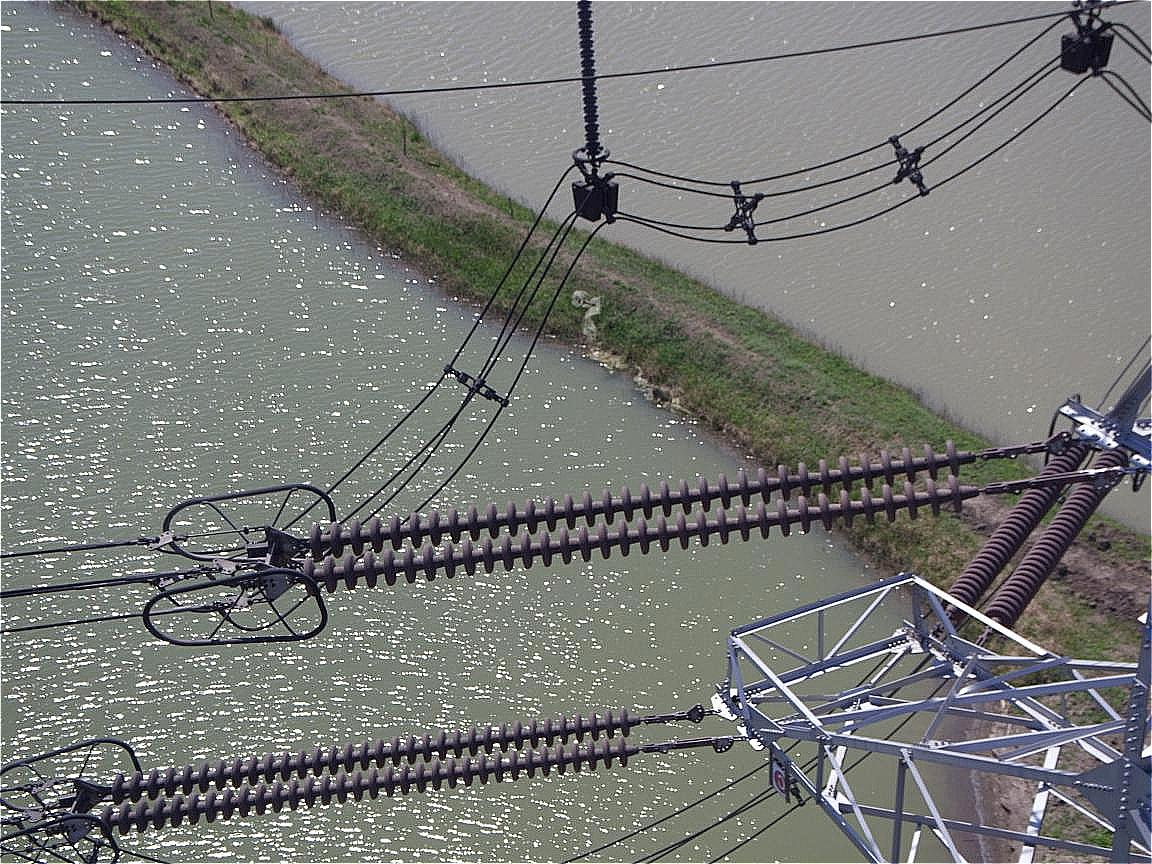insultor1: (272, 434, 1003, 600), (83, 699, 651, 853)
